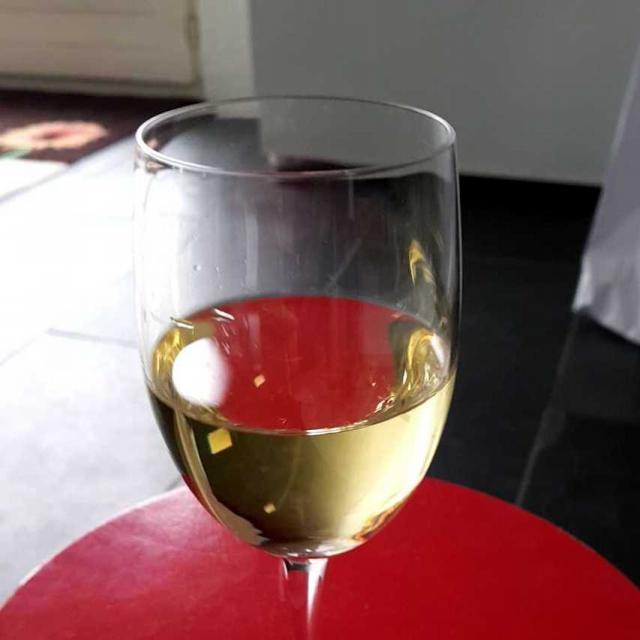wine: (148, 293, 454, 558)
